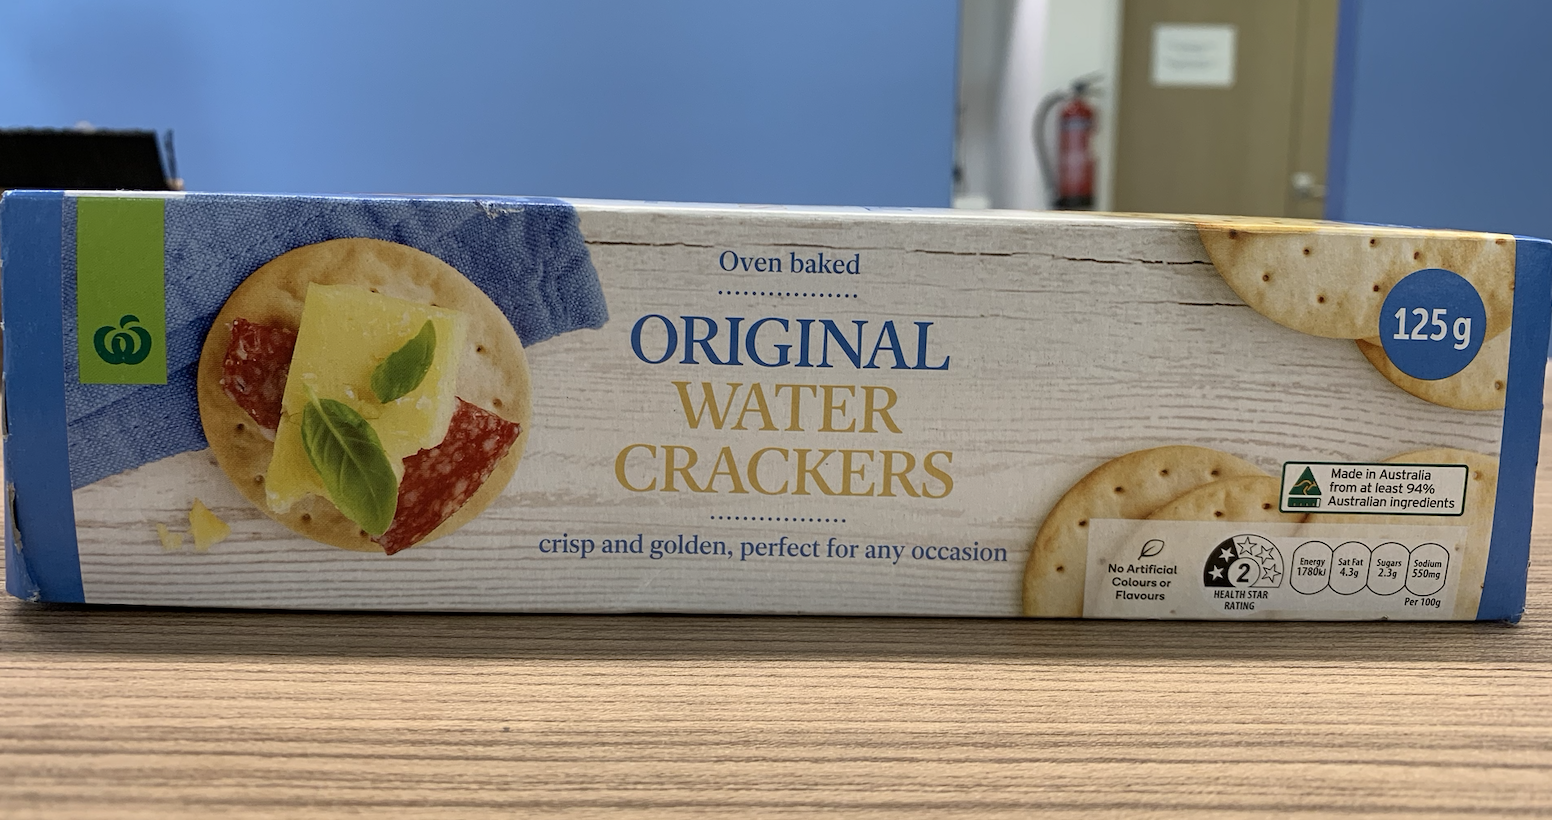crackers_100g-199g: (57, 214, 1512, 615)
